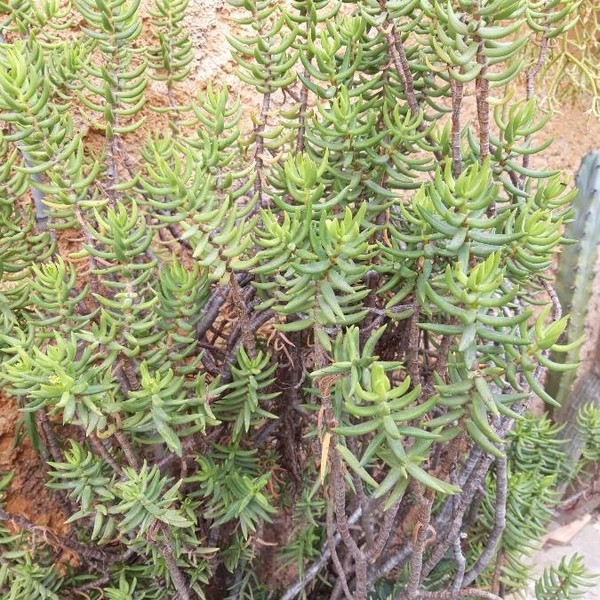obstacle: (36, 46, 497, 503)
